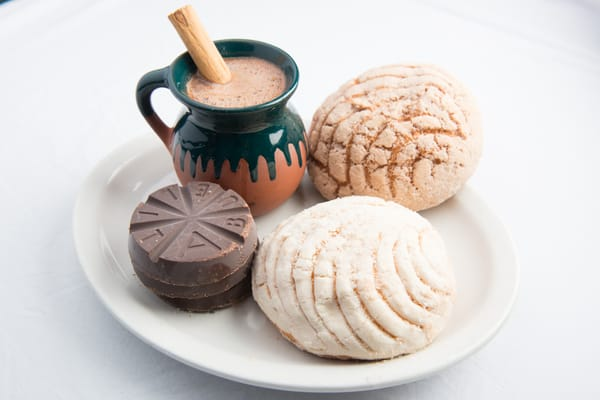pizza: (135, 29, 307, 219)
